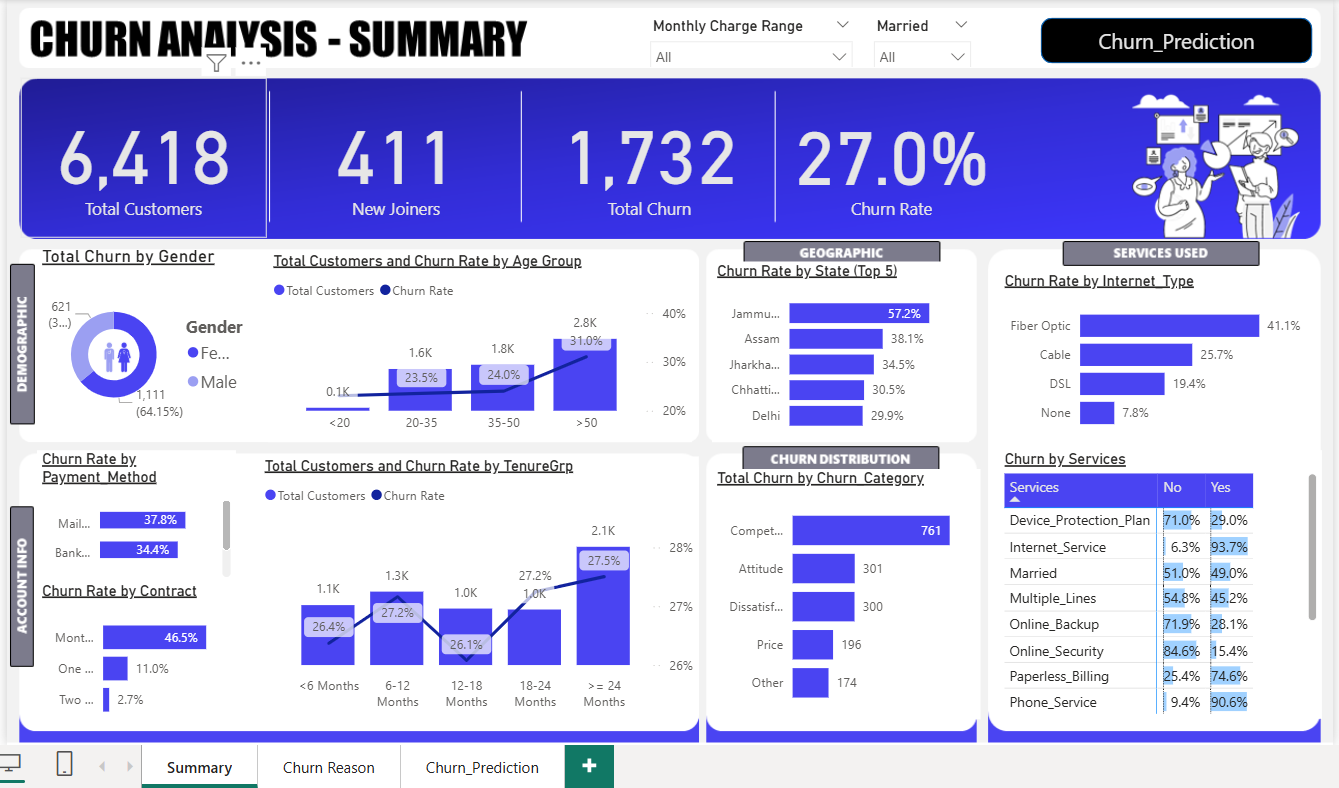

This screenshot's page, from the dashboard's own definition file:
{"tool":"powerbi","page":{"name":"Summary","canvas":[1280,720],"ordinal":0},"visuals":[{"type":"image","box":[60.4,322.5,93.3,46.7],"z":0},{"type":"card","fields":{"Values":["tbl_Measures.Total Customers"]},"box":[13.7,75.5,237.4,155.1],"z":1000},{"type":"card","fields":{"Values":["tbl_Measures.New Joiners"]},"box":[252.5,75.5,247,155.1],"z":2000},{"type":"card","fields":{"Values":["tbl_Measures.Total Churn"]},"box":[499.5,75.5,241.5,155.1],"z":3000},{"type":"card","fields":{"Values":["tbl_Measures.Churn Rate"]},"box":[741,76.8,226.4,153.7],"z":4000},{"type":"donutChart","fields":{"Category":["prod_Churn.Gender"],"Y":["tbl_Measures.Total Churn"]},"box":[28.8,237.4,223.7,190.7],"z":5000},{"type":"lineStackedColumnComboChart","fields":{"Category":["Mapping_AgeGrp.Age Group"],"Y":["tbl_Measures.Total Customers"],"Y2":["tbl_Measures.Churn Rate"]},"box":[252.5,244.3,408.9,183.9],"z":6000},{"type":"clusteredBarChart","fields":{"Category":["prod_Churn.Payment_Method"],"Y":["tbl_Measures.Churn Rate"]},"box":[28.8,435,192.1,127.6],"z":7000},{"type":"lineStackedColumnComboChart","fields":{"Category":["Mapping_TenureGrp.TenureGrp"],"Y":["tbl_Measures.Total Customers"],"Y2":["tbl_Measures.Churn Rate"]},"box":[244.3,441.9,424,252.5],"z":8000},{"type":"clusteredBarChart","fields":{"Category":["prod_Churn.Contract"],"Y":["tbl_Measures.Churn Rate"]},"box":[28.8,562.6,205.8,144.1],"z":9000},{"type":"clusteredBarChart","title":"Churn Rate by State (Top 5)","fields":{"Category":["prod_Churn.State"],"Y":["tbl_Measures.Churn Rate"]},"box":[680.6,253.9,248.4,174.3],"z":10000},{"type":"clusteredBarChart","fields":{"Category":["prod_Churn.Churn_Category"],"Y":["tbl_Measures.Total Churn"]},"box":[680.6,454.2,259.3,241.5],"z":11000},{"type":"clusteredBarChart","fields":{"Category":["prod_Churn.Internet_Type"],"Y":["tbl_Measures.Churn Rate"]},"box":[957.8,263.5,301.9,164.7],"z":12000},{"type":"pivotTable","title":"Churn by Services","fields":{"Rows":["prod_Services.Services"],"Columns":["prod_Services.Status"],"Values":["Sum(prod_Services.Churn Status)"]},"box":[957.8,435,311.5,259.3],"z":13000},{"type":"slicer","fields":{"Values":["prod_Churn.Monthly Charge status"]},"box":[610.6,12.3,215.4,53.5],"z":14000},{"type":"slicer","fields":{"Values":["prod_Churn.Married"]},"box":[826.1,12.3,113.9,53.5],"z":15000},{"type":"shape","box":[997.6,17.8,262.1,43.9],"z":15001}]}

Visuals, with their boxes on the page's 1280x720 design canvas (x1, y1, x2, y2). These are canvas units, not pixel positions in the 1339x788 screenshot, which may show the page scaled, cropped or inside an application window:
image: (left=60, top=322, right=154, bottom=369)
card - tbl_Measures.Total Customers: (left=14, top=76, right=251, bottom=231)
card - tbl_Measures.New Joiners: (left=252, top=76, right=500, bottom=231)
card - tbl_Measures.Total Churn: (left=500, top=76, right=741, bottom=231)
card - tbl_Measures.Churn Rate: (left=741, top=77, right=967, bottom=230)
donutChart - prod_Churn.Gender x tbl_Measures.Total Churn: (left=29, top=237, right=252, bottom=428)
lineStackedColumnComboChart - Mapping_AgeGrp.Age Group x tbl_Measures.Total Customers: (left=252, top=244, right=661, bottom=428)
clusteredBarChart - prod_Churn.Payment_Method x tbl_Measures.Churn Rate: (left=29, top=435, right=221, bottom=563)
lineStackedColumnComboChart - Mapping_TenureGrp.TenureGrp x tbl_Measures.Total Customers: (left=244, top=442, right=668, bottom=694)
clusteredBarChart - prod_Churn.Contract x tbl_Measures.Churn Rate: (left=29, top=563, right=235, bottom=707)
"Churn Rate by State (Top 5)" clusteredBarChart: (left=681, top=254, right=929, bottom=428)
clusteredBarChart - prod_Churn.Churn_Category x tbl_Measures.Total Churn: (left=681, top=454, right=940, bottom=696)
clusteredBarChart - prod_Churn.Internet_Type x tbl_Measures.Churn Rate: (left=958, top=264, right=1260, bottom=428)
"Churn by Services" pivotTable: (left=958, top=435, right=1269, bottom=694)
slicer - prod_Churn.Monthly Charge status: (left=611, top=12, right=826, bottom=66)
slicer - prod_Churn.Married: (left=826, top=12, right=940, bottom=66)
shape: (left=998, top=18, right=1260, bottom=62)
